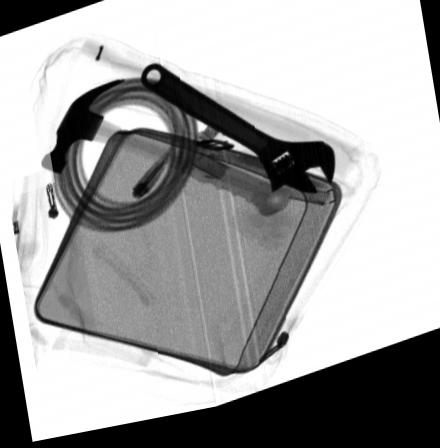Hammer: (39, 84, 293, 228)
Wrench: (139, 69, 335, 207)
